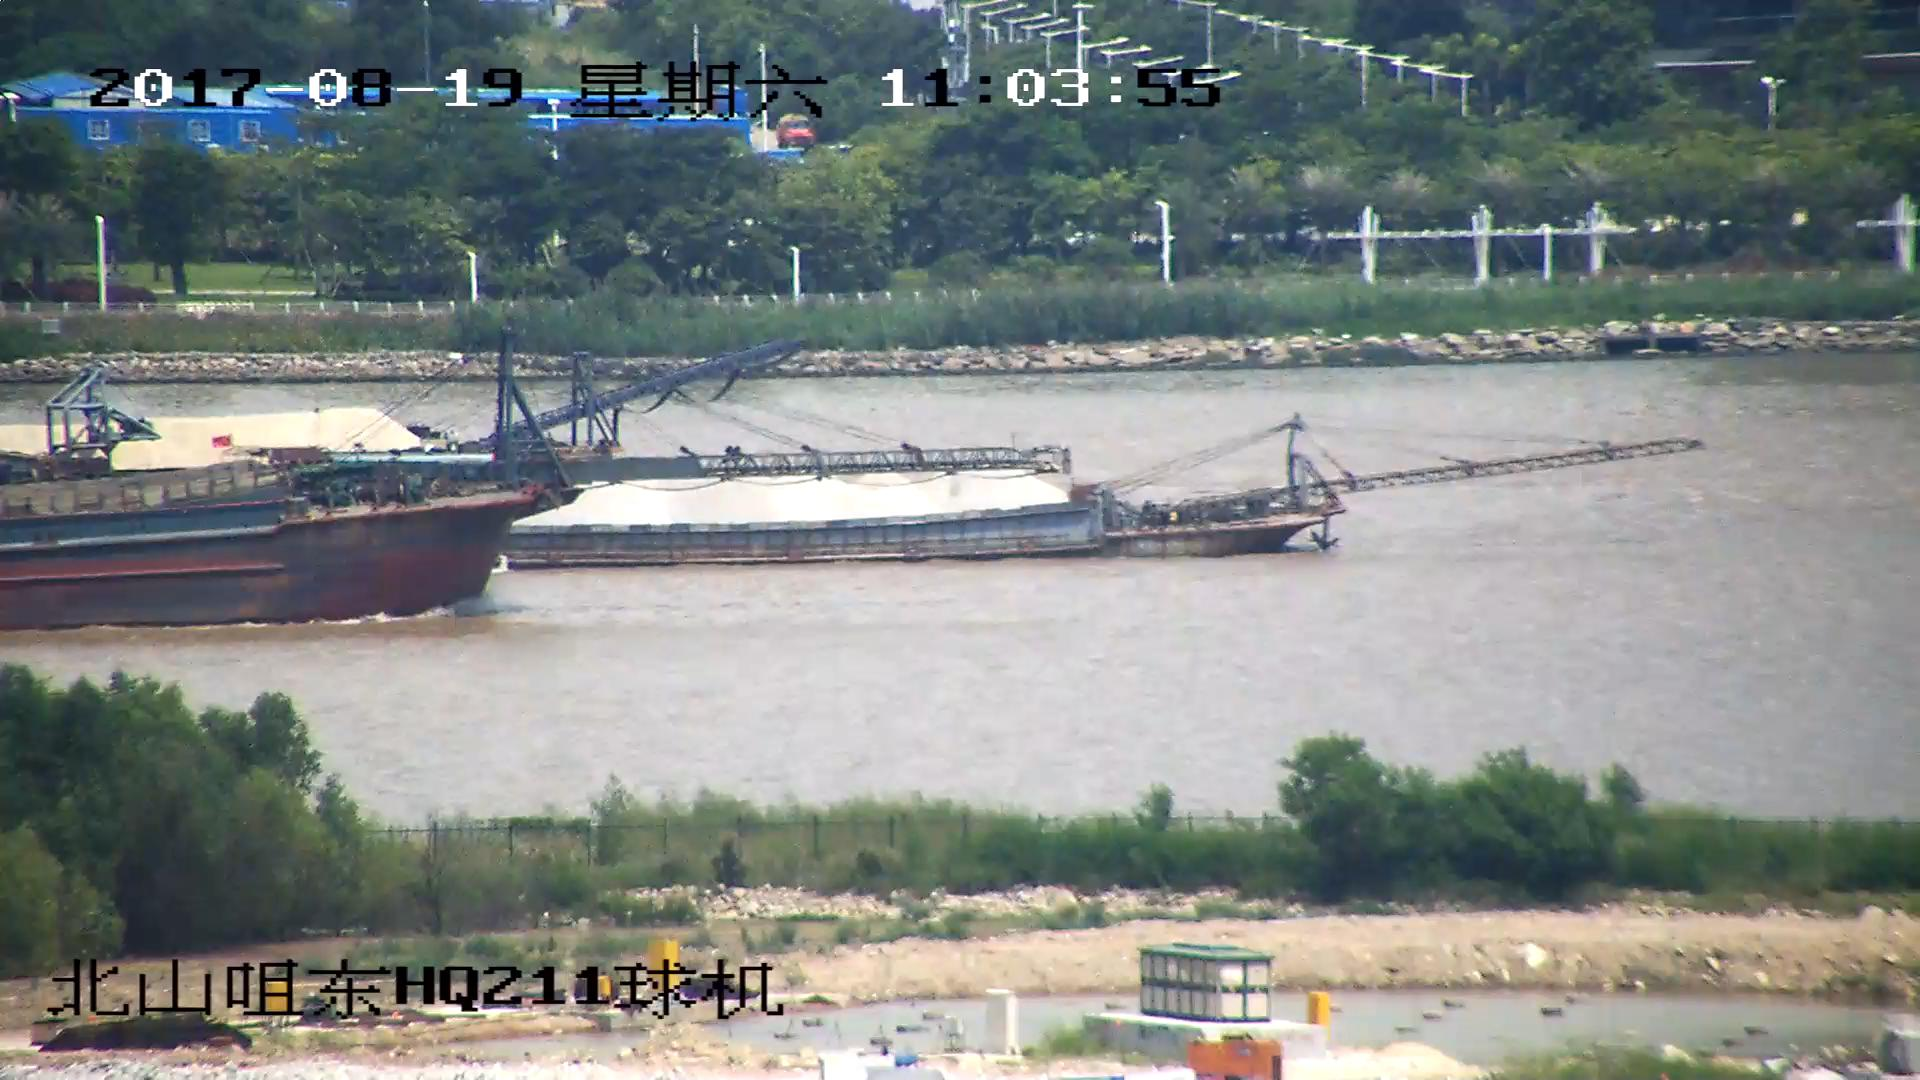bulk cargo carrier: (1, 342, 1059, 630)
ore carrier: (476, 416, 1703, 567), (1, 337, 798, 503)
